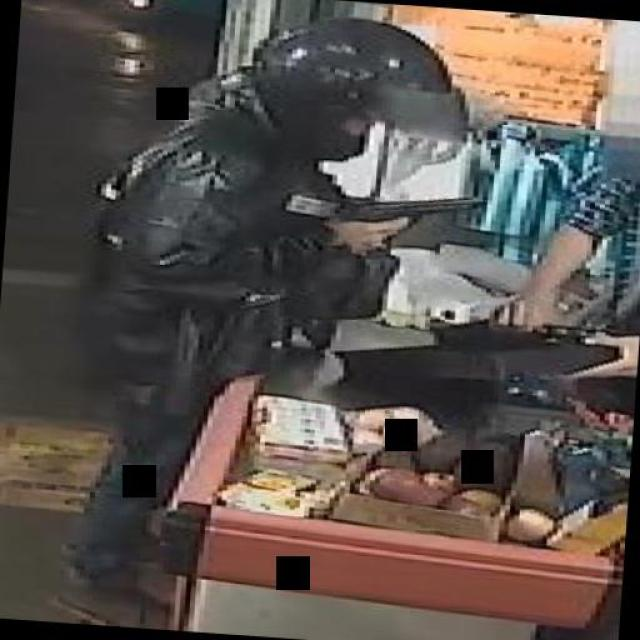gun: (329, 182, 489, 252)
